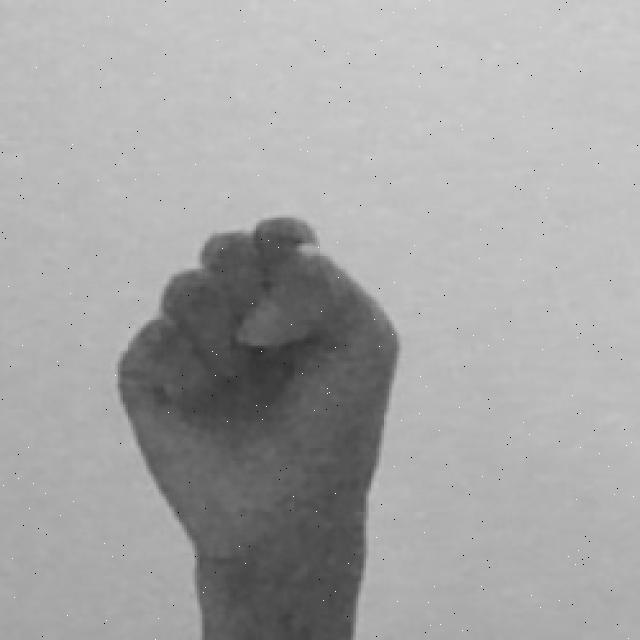S: (114, 204, 406, 640)
